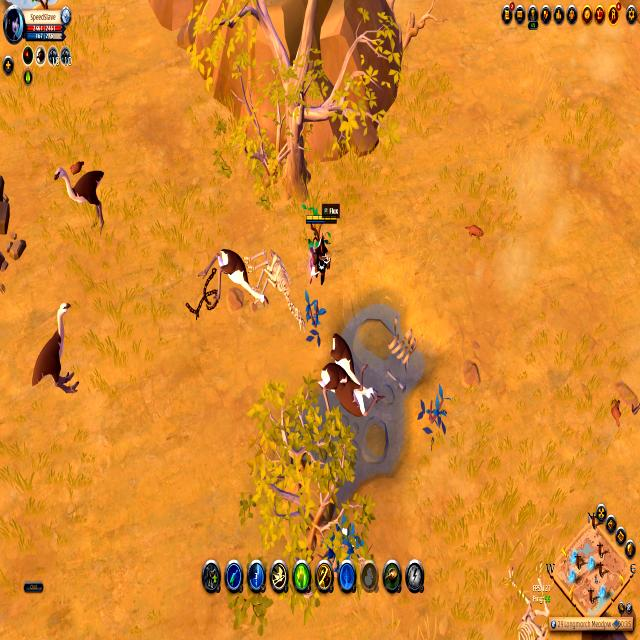mob: (317, 326, 376, 423), (209, 241, 269, 313)
ore: (28, 295, 78, 401), (54, 156, 110, 233)
red: (306, 212, 334, 284)
